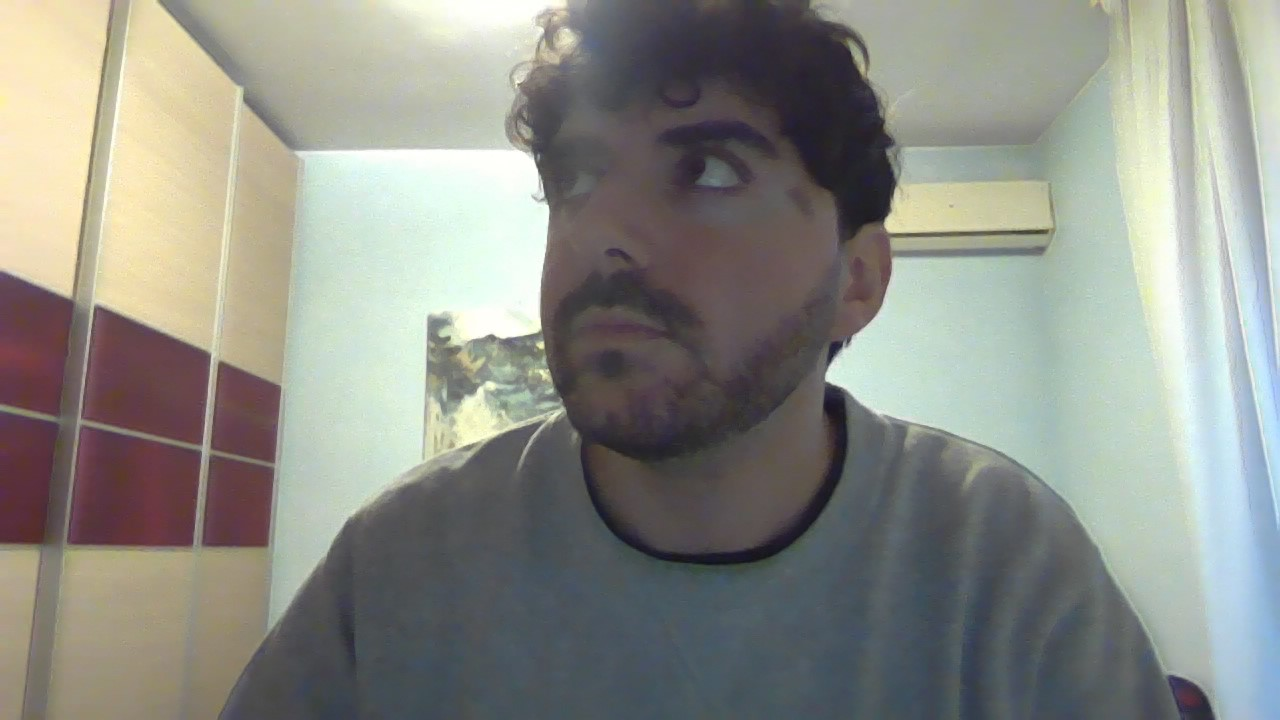NoGlasses: (513, 125, 872, 239)
